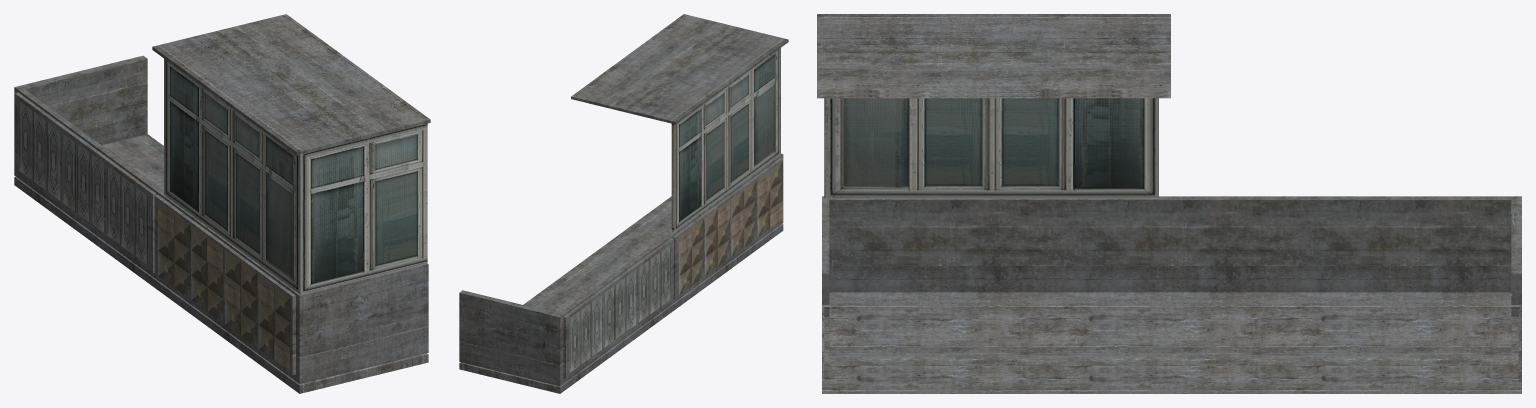
Rendered from civ_balcony_double_a.FBX.
The picture shows the model from 3 angles, left to right: view 1: azimuth 30°, elevation 25°; view 2: azimuth 150°, elevation 25°; view 3: azimuth 270°, elevation 25°; orthographic projection. The views are drawn at different scales.
Visible parts, largest first — view 1: civ_balcony_double_a; view 2: civ_balcony_double_a; view 3: civ_balcony_double_a.
Part boxes in pixels (bbox=[...]): civ_balcony_double_a: bbox=[14, 14, 430, 393]; civ_balcony_double_a: bbox=[459, 14, 788, 393]; civ_balcony_double_a: bbox=[817, 14, 1521, 393].
Size of the model in its own units: 161 by 280 by 597.
